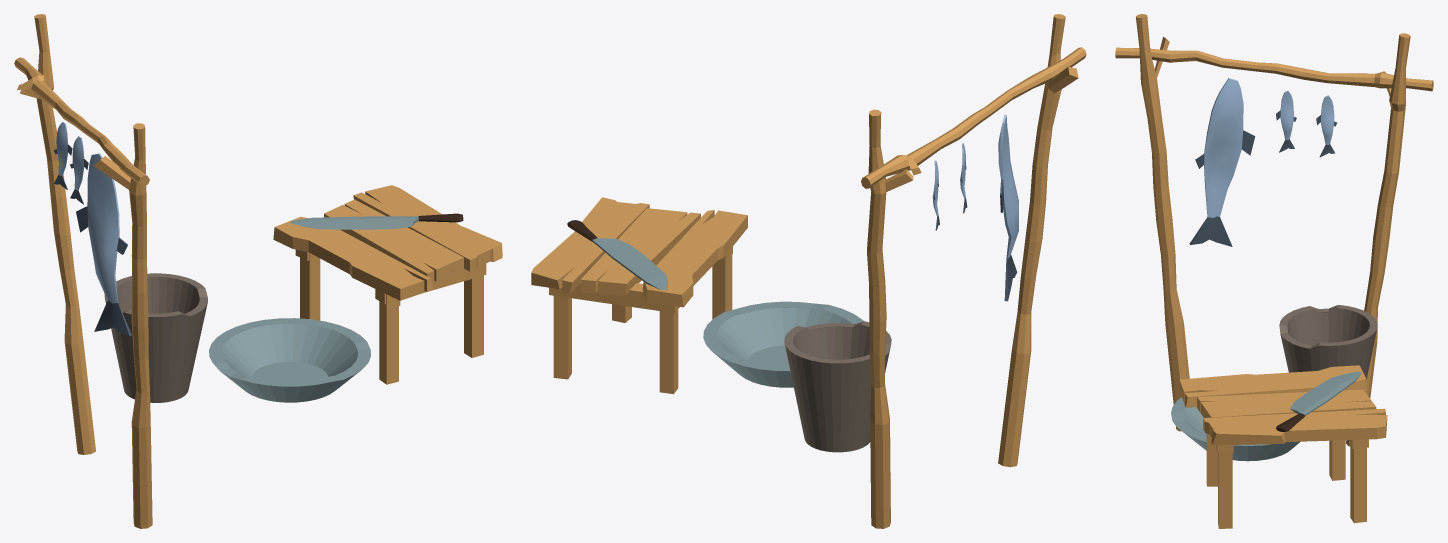
The model's file is survival_kitchen.fbx.
3 views of the same model, side by side, from view 1: azimuth 30°, elevation 25°; view 2: azimuth 150°, elevation 25°; view 3: azimuth 270°, elevation 25° (orthographic). The views are drawn at different scales.
Parts seen in each view (by area): view 1: Cylinder.001, Cylinder, Cylinder.002, Cylinder.003, Plane, Plane.004, Plane.001, Plane.002, Cylinder.004, Plane.003, Cube.005, Cube.006 (+4 smaller); view 2: Cylinder, Cylinder.002, Cylinder.003, Cylinder.001, Plane, Plane.001, Plane.002, Cylinder.004, Plane.004, Plane.003, Cube.003, Cube.004 (+2 smaller); view 3: Cylinder.002, Cylinder, Plane.001, Plane.004, Cylinder.003, Plane, Cylinder.004, Plane.002, Cylinder.001, Plane.003, Cube.004, Cube.006 (+4 smaller).
Part boxes in pixels (x1=…): Cylinder.001: x1=209, y1=318, x2=370, y2=402; Cylinder: x1=104, y1=273, x2=207, y2=402; Cylinder.002: x1=94, y1=123, x2=152, y2=528; Cylinder.003: x1=20, y1=14, x2=95, y2=454; Plane: x1=273, y1=216, x2=433, y2=300; Plane.004: x1=76, y1=153, x2=131, y2=336; Plane.001: x1=353, y1=185, x2=502, y2=271; Plane.002: x1=324, y1=199, x2=463, y2=283; Cylinder.004: x1=14, y1=57, x2=149, y2=186; Plane.003: x1=290, y1=213, x2=463, y2=229; Cube.005: x1=379, y1=294, x2=398, y2=384; Cube.006: x1=464, y1=275, x2=483, y2=357; Cylinder: x1=784, y1=321, x2=891, y2=452; Cylinder.002: x1=998, y1=14, x2=1078, y2=467; Cylinder.003: x1=867, y1=109, x2=913, y2=528; Cylinder.001: x1=703, y1=301, x2=863, y2=387; Plane: x1=642, y1=210, x2=747, y2=307; Plane.001: x1=531, y1=197, x2=649, y2=293; Plane.002: x1=580, y1=208, x2=700, y2=295; Cylinder.004: x1=861, y1=47, x2=1086, y2=188; Plane.004: x1=998, y1=114, x2=1018, y2=301; Plane.003: x1=567, y1=220, x2=668, y2=290; Cube.003: x1=659, y1=309, x2=678, y2=394; Cube.004: x1=553, y1=295, x2=571, y2=379; Cylinder.002: x1=1136, y1=14, x2=1189, y2=431; Cylinder: x1=1279, y1=305, x2=1377, y2=379; Plane.001: x1=1203, y1=408, x2=1387, y2=445; Plane.004: x1=1189, y1=78, x2=1255, y2=246; Cylinder.003: x1=1346, y1=33, x2=1410, y2=446; Plane: x1=1179, y1=365, x2=1366, y2=407; Cylinder.004: x1=1115, y1=47, x2=1433, y2=91; Plane.002: x1=1197, y1=389, x2=1376, y2=417; Cylinder.001: x1=1171, y1=397, x2=1300, y2=461; Plane.003: x1=1276, y1=371, x2=1361, y2=431; Cube.004: x1=1350, y1=444, x2=1366, y2=523; Cube.006: x1=1218, y1=453, x2=1232, y2=528.
Size of the model in its own units: 204 by 190 by 136.
